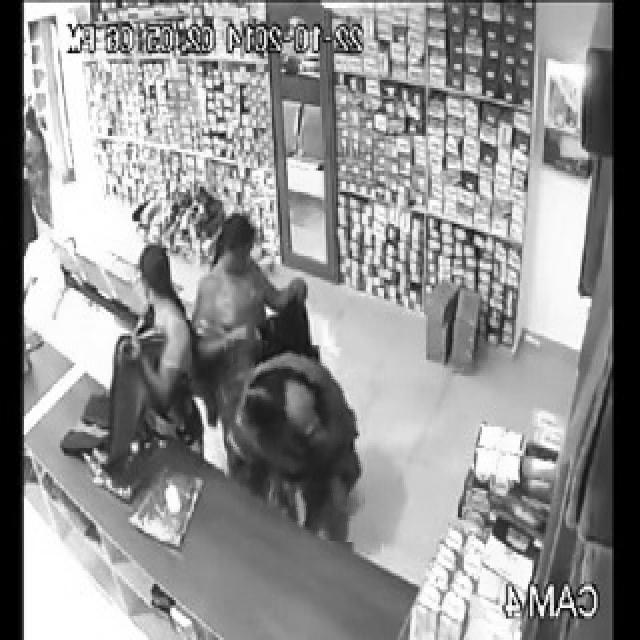Shoplifting: (224, 341, 369, 540)
